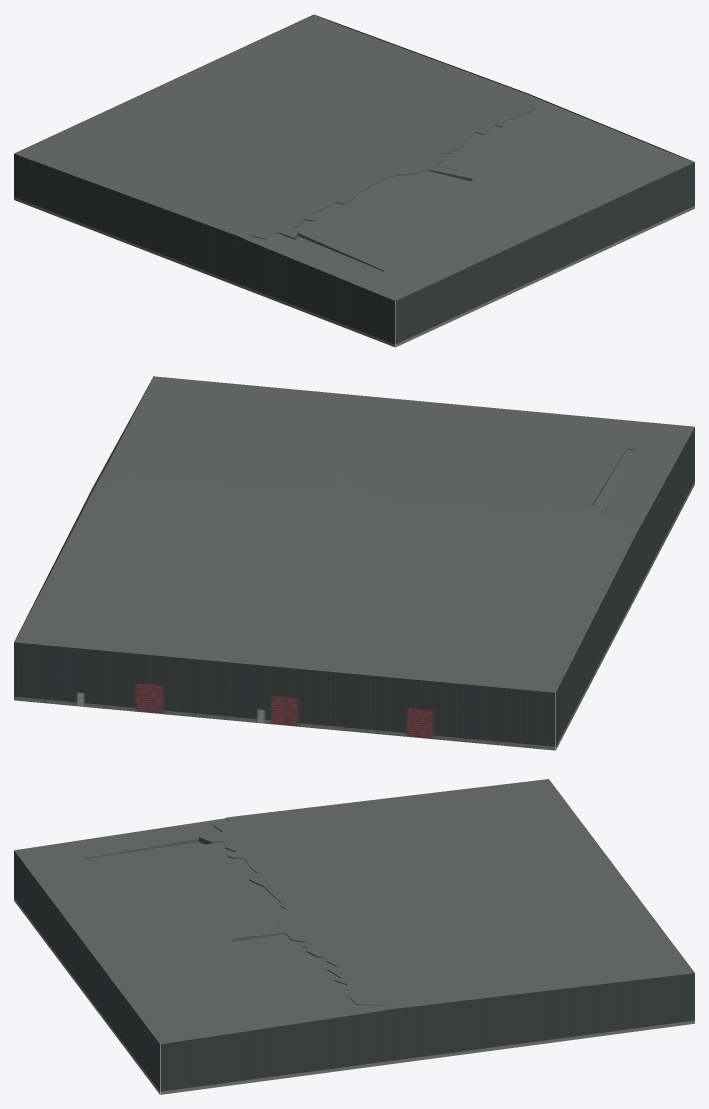
3 renders of one model, top to bottom at view 1: azimuth 30°, elevation 25°; view 2: azimuth 150°, elevation 25°; view 3: azimuth 270°, elevation 25°, orthographic. The views are drawn at different scales.
Parts seen in each view (by area): view 1: 0363100012224669; view 2: 0363100012224669; view 3: 0363100012224669.
Part boxes in pixels (x1,y1,x2,y2): 0363100012224669: (14,14,694,347); 0363100012224669: (14,376,694,750); 0363100012224669: (14,779,694,1094).
Bounding box in the file's own units: 105 × 10.39 × 114.
Materials: 2 (1 with a texture image).
